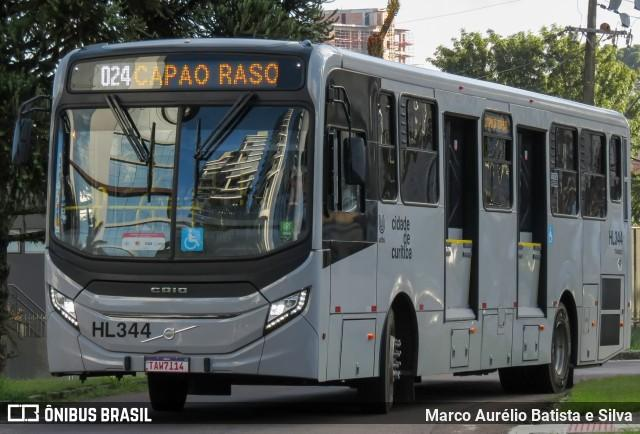CAPAO RASO: (130, 59, 284, 89)
